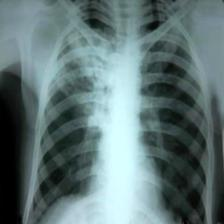tuberculosis: (22, 0, 213, 224)
